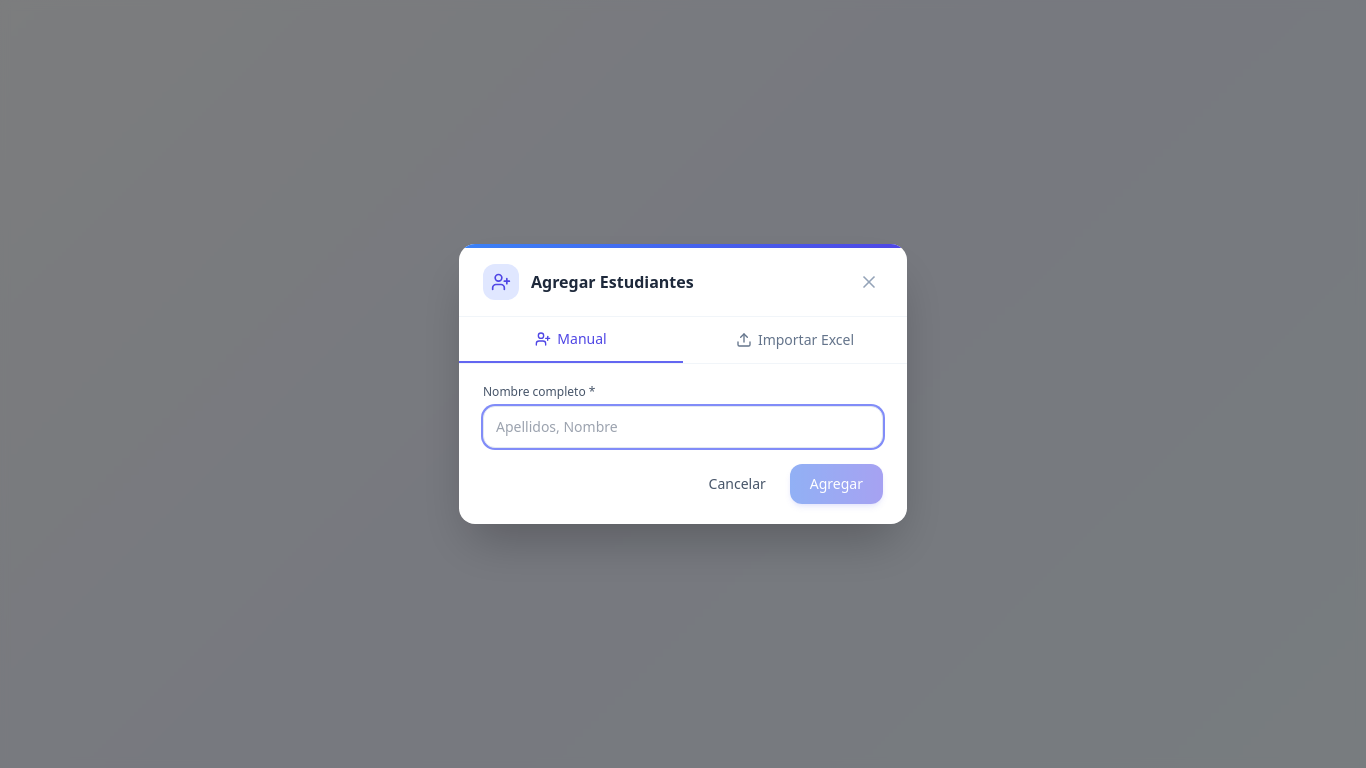
it: ModalEstudiante › rechaza caracteres inválidos en nombre
The image size is (1366, 768).
Type "Test<script>" into the field with placeholder "Apellidos, Nombre" at {"x": 683, "y": 427}, box [483,406,883,448]
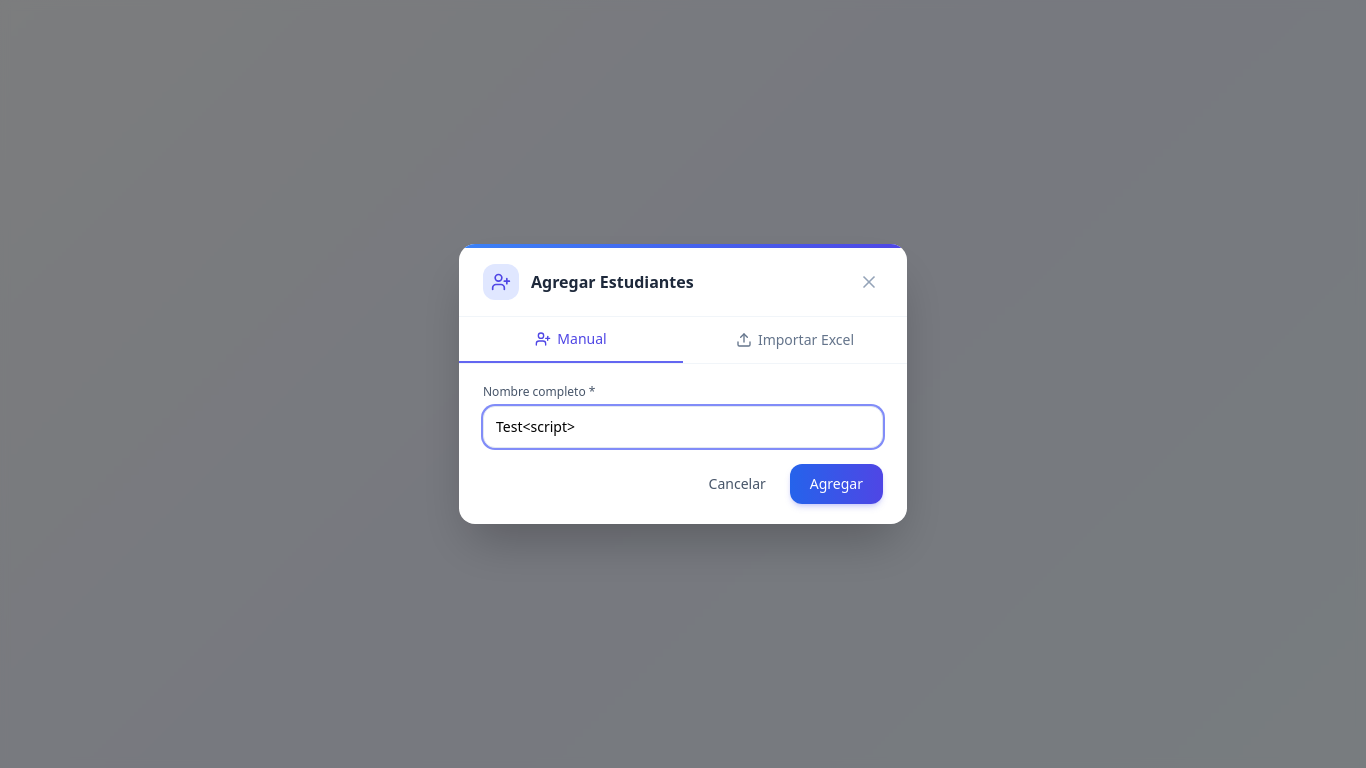
Click the button "Agregar" at {"x": 836, "y": 484}, box [790,464,883,504]
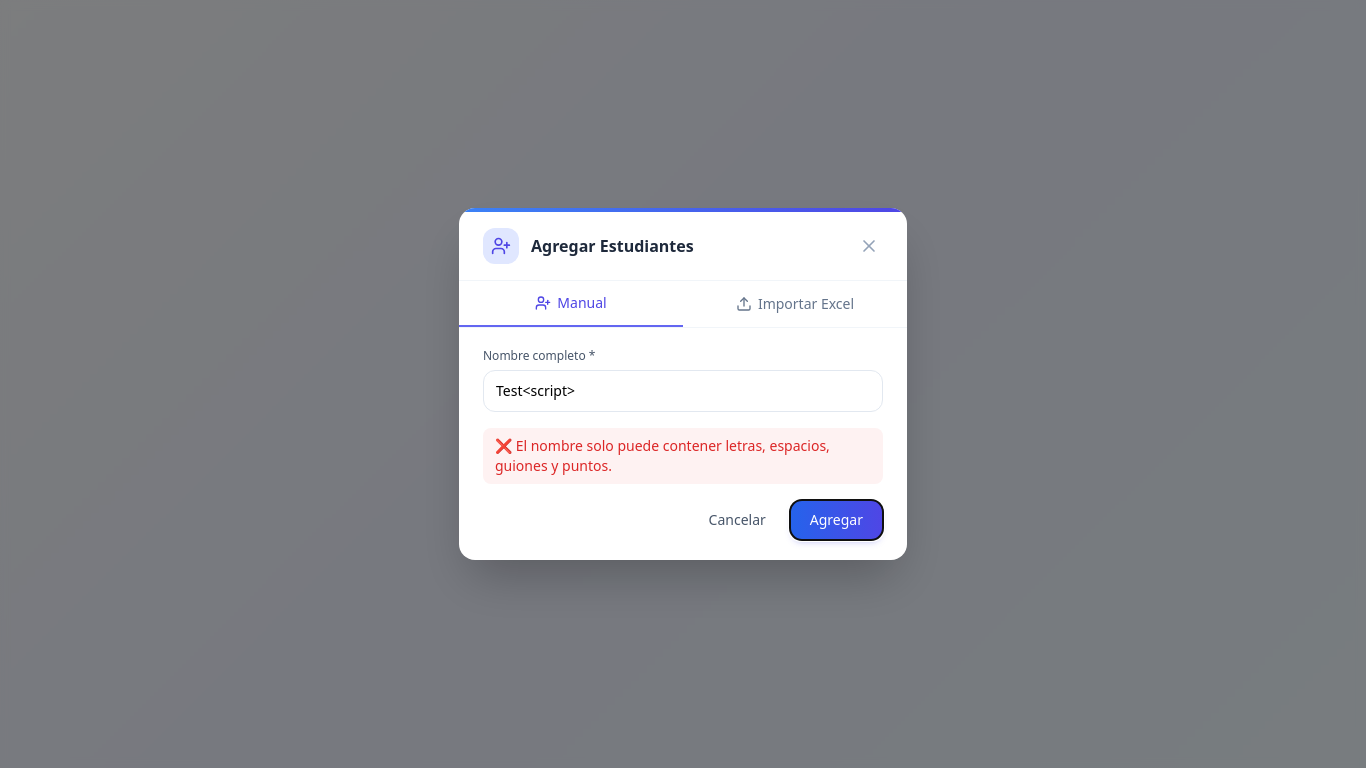
Expected: the text "solo puede contener letras" is shown, [495,436,830,475]
